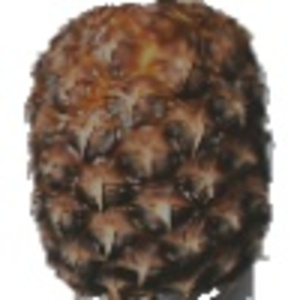abacaxi: (23, 1, 276, 299)
